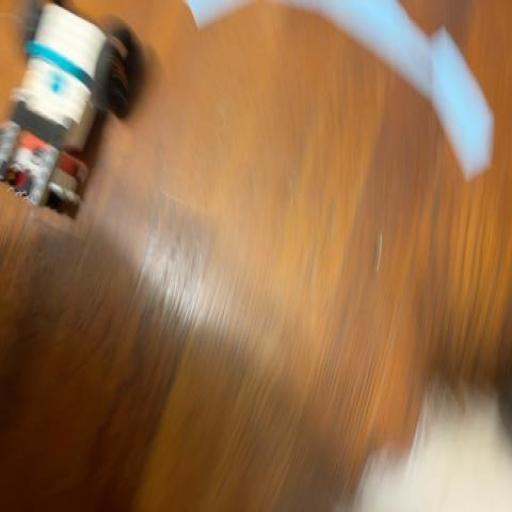Opponent: (3, 0, 146, 226)
